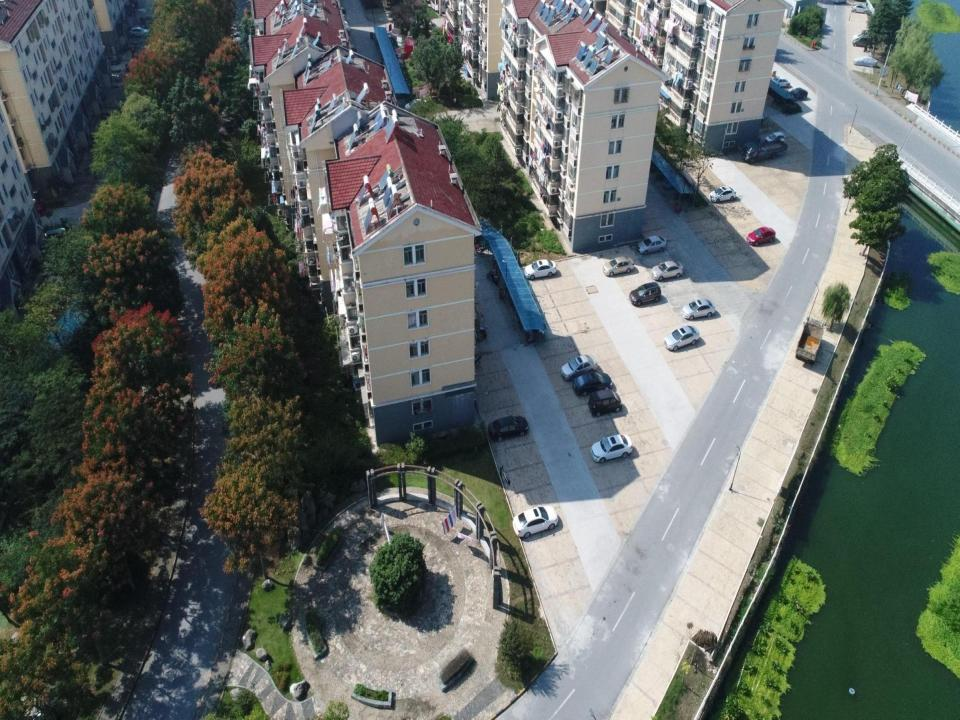car: (512, 505, 559, 538), (590, 435, 633, 463), (488, 415, 528, 442), (663, 325, 700, 351), (561, 354, 598, 380), (573, 373, 612, 396), (629, 282, 661, 306), (682, 298, 716, 320), (602, 255, 635, 277), (651, 260, 684, 281), (524, 259, 557, 280), (636, 234, 667, 255), (746, 226, 776, 246), (708, 185, 736, 204), (852, 31, 875, 48), (853, 56, 878, 68), (128, 26, 151, 38), (764, 131, 785, 144), (786, 88, 808, 100), (769, 77, 790, 89), (231, 28, 242, 47), (852, 4, 870, 15)
truck: (796, 317, 824, 364), (741, 139, 788, 164)
van: (588, 388, 622, 418)
